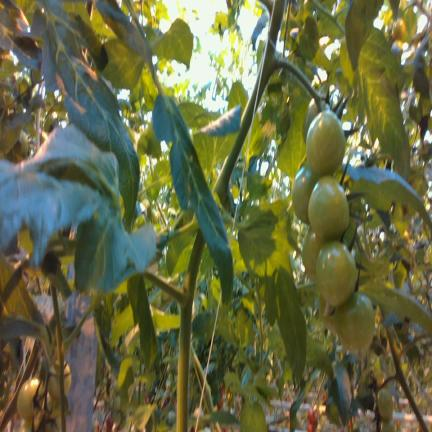6kp_peduncle: (253, 28, 317, 99), (380, 361, 408, 392)
6kp_petiole: (152, 257, 200, 337), (390, 334, 427, 372)
MainStem: (211, 0, 284, 203), (175, 228, 204, 432), (386, 329, 429, 432)
tomato: (308, 176, 349, 241), (316, 241, 356, 306), (306, 110, 345, 176), (335, 292, 374, 354), (292, 163, 317, 223), (17, 378, 44, 423), (302, 228, 323, 281), (48, 363, 72, 401), (377, 388, 393, 419), (392, 18, 406, 40), (18, 130, 28, 158), (381, 420, 395, 431)
